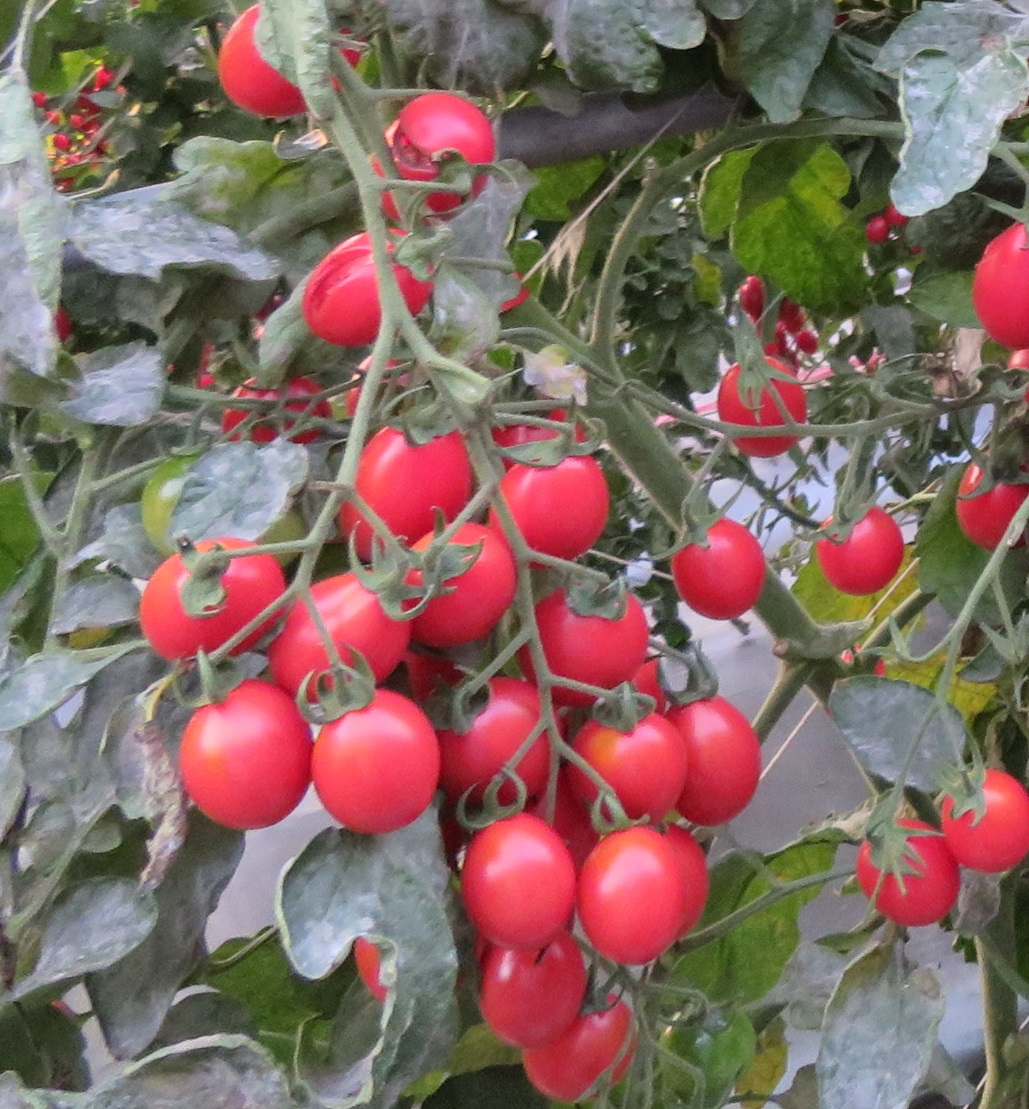red: (171, 679, 309, 826), (332, 415, 475, 549), (137, 535, 280, 661), (276, 573, 418, 695), (315, 688, 434, 826), (299, 225, 431, 347), (523, 988, 659, 1099), (431, 684, 556, 802), (464, 823, 574, 954), (579, 840, 683, 978), (474, 938, 594, 1051), (391, 88, 496, 211), (579, 702, 687, 820), (414, 530, 521, 648), (509, 438, 614, 558), (677, 694, 769, 820), (531, 597, 647, 695), (664, 515, 772, 620), (861, 817, 959, 925), (217, 5, 313, 115), (941, 770, 1029, 873), (718, 359, 810, 457), (821, 511, 913, 592), (970, 218, 1029, 336), (959, 458, 1029, 549), (222, 380, 287, 445), (741, 274, 767, 316), (794, 332, 822, 356), (866, 220, 890, 245), (52, 134, 72, 151)
